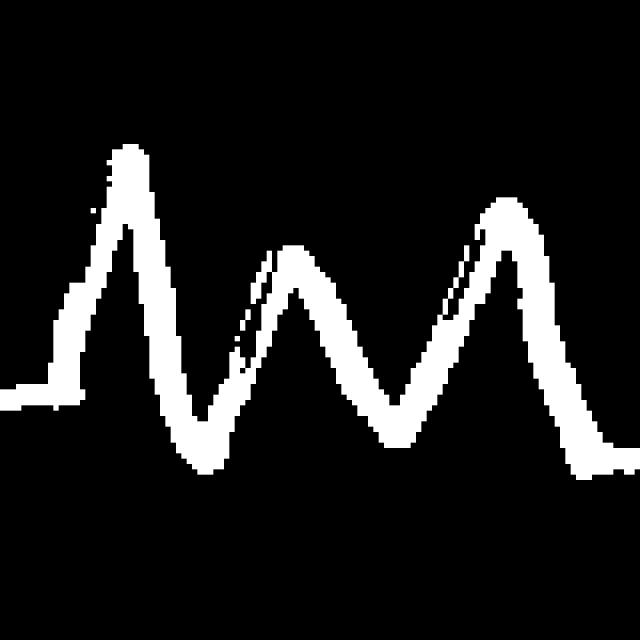resistor: (40, 130, 616, 520)
